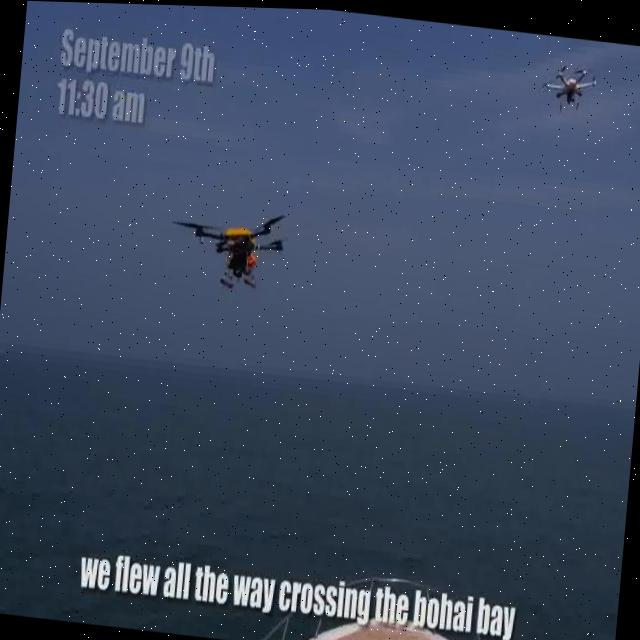drone: (174, 199, 291, 294), (542, 52, 598, 114)
